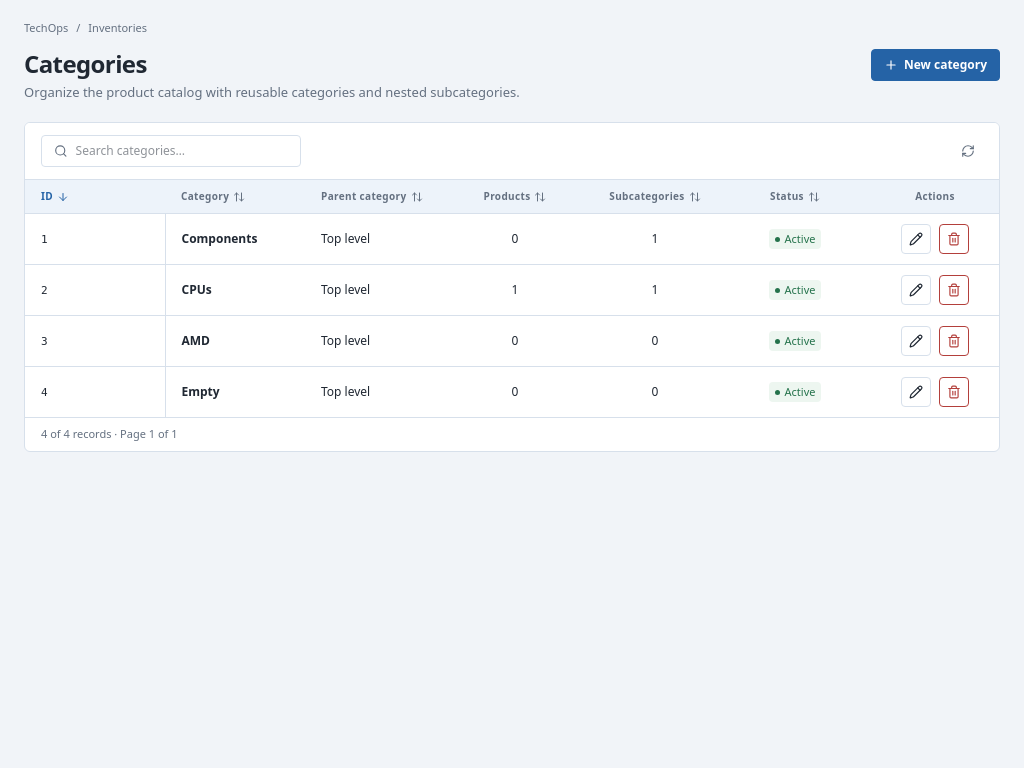
Test: opens an edit modal and persists parent, name, and status changes
This screenshot has width=1024, height=768.
Step 1. Click the button named "Edit" in the row of "CPUs" → (916, 290), box [901, 275, 931, 305]
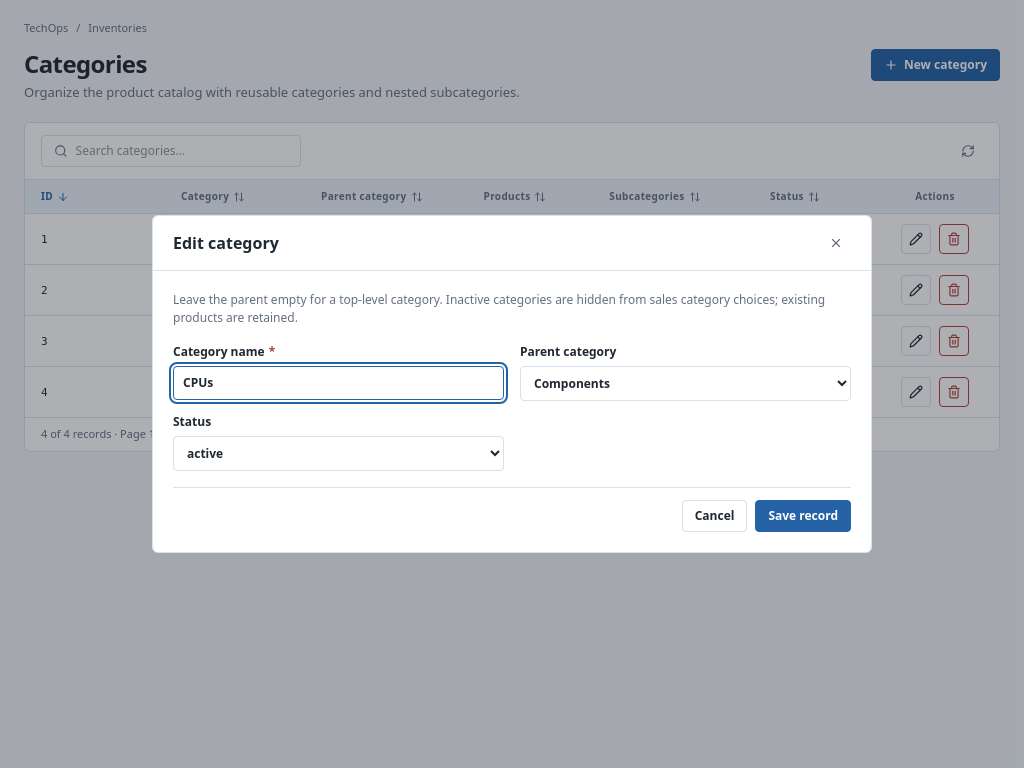
Step 2. Replace the text in the field labelled "Category name *" with "Processors" → (338, 383), box [173, 366, 504, 400]
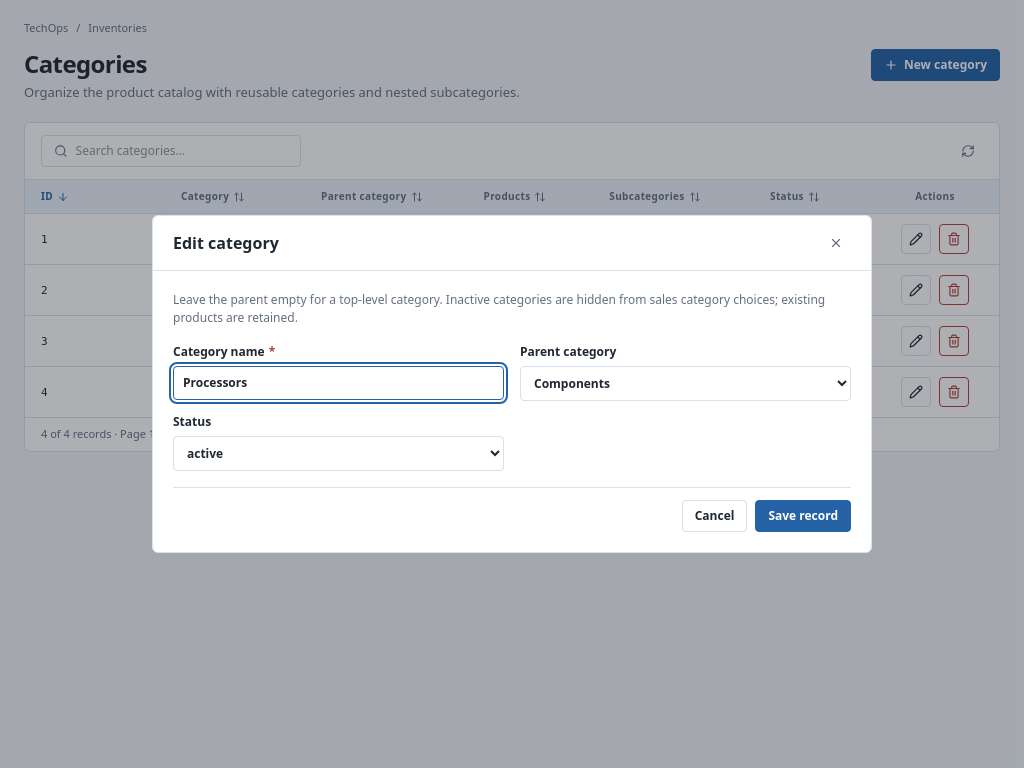
Step 3. Select "None" in the dropdown labelled "Parent category" → (686, 384), box [520, 366, 851, 401]
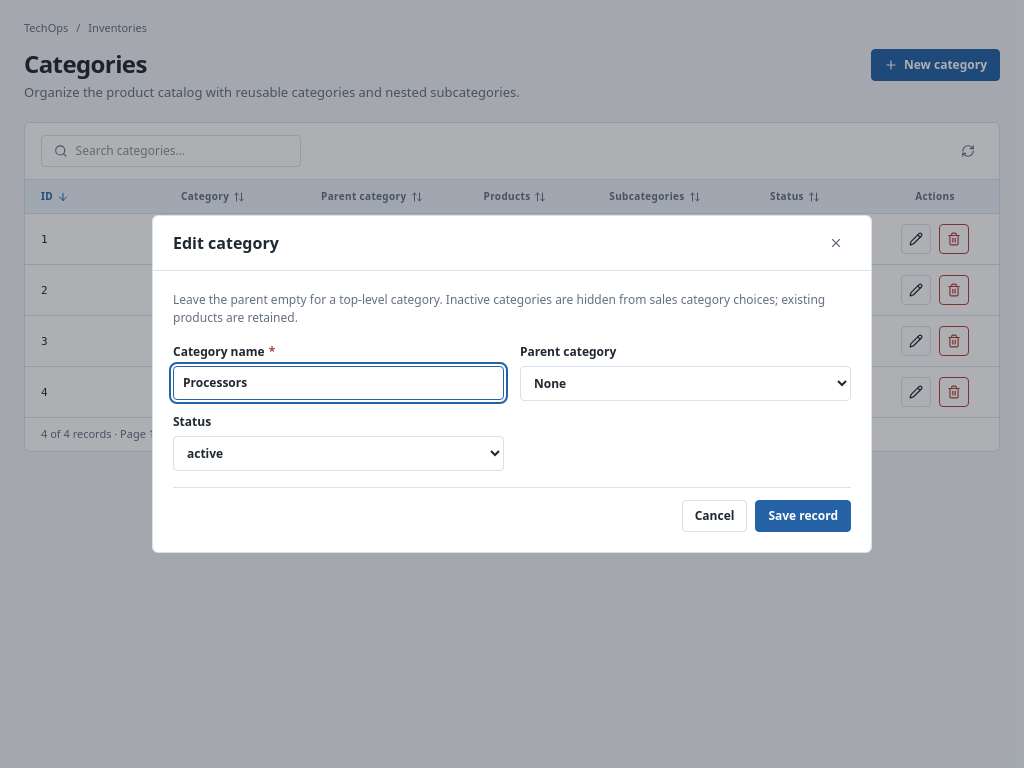
Step 4. Select "inactive" in the dropdown labelled "Status" → (338, 454), box [173, 436, 504, 471]
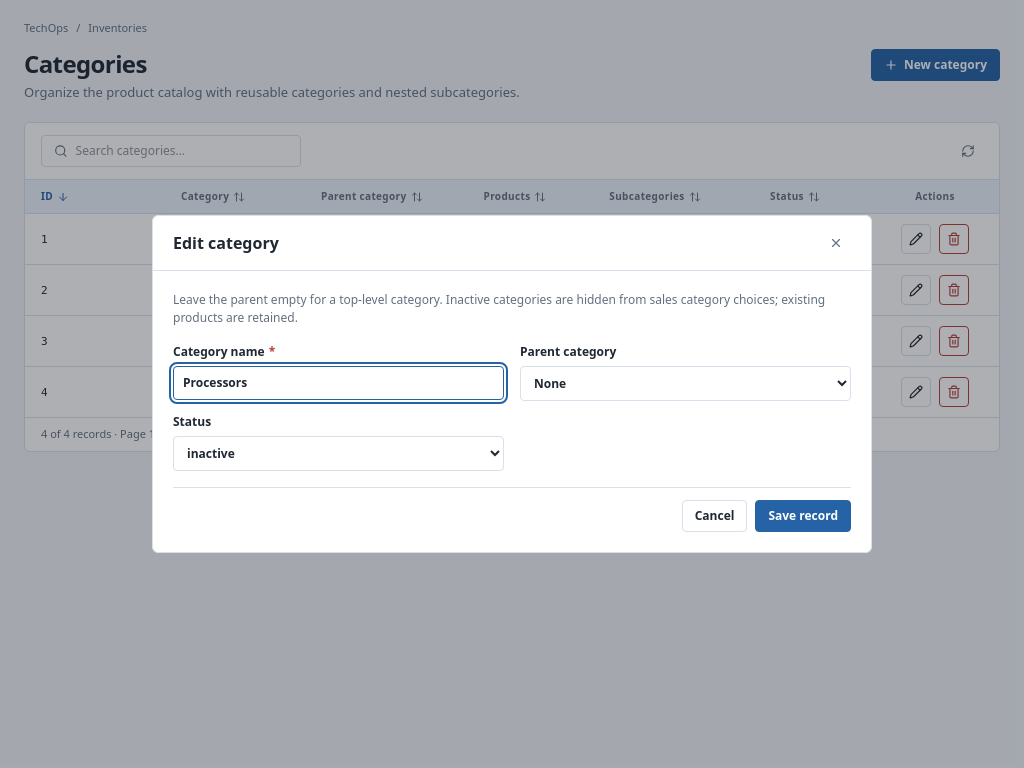
Step 5. Click the button "Save record" → (803, 516), box [755, 500, 851, 532]
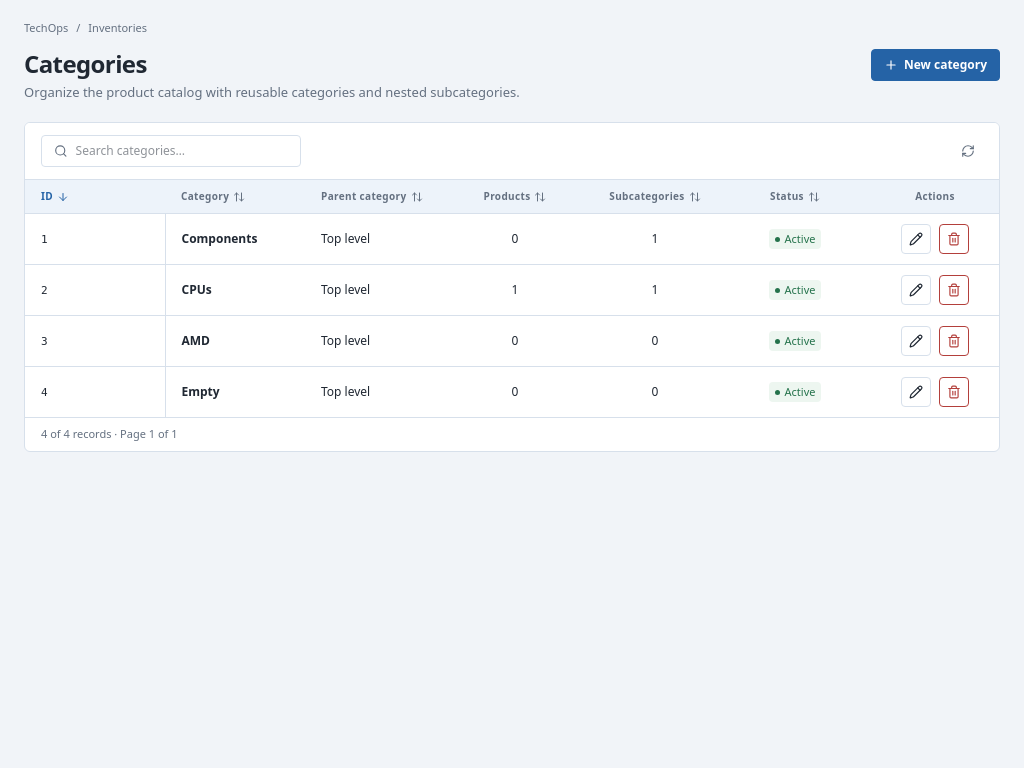
Check: the dialog is gone
